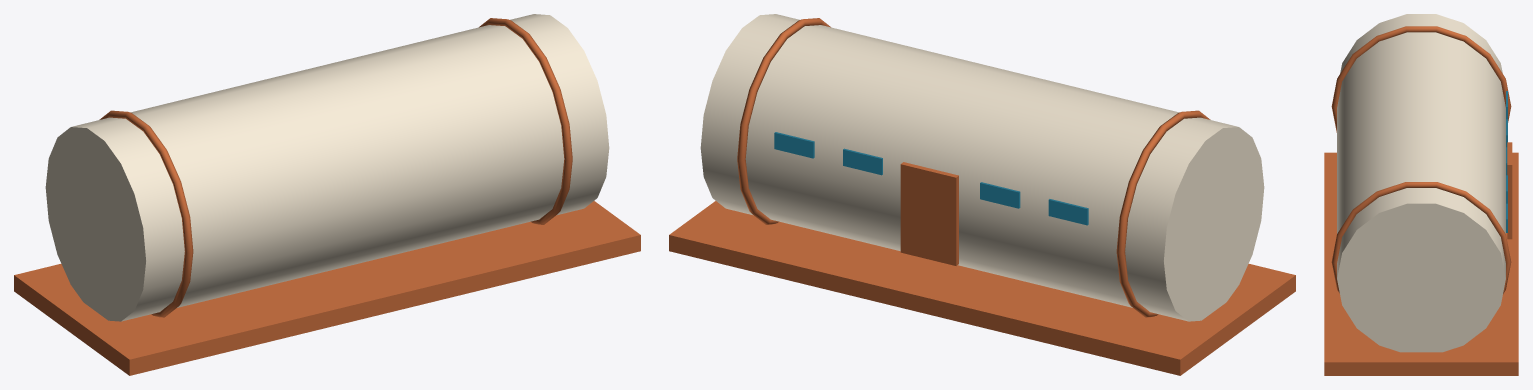
The model's file is habitat.glb.
3 views of the same model, side by side, from view 1: azimuth 30°, elevation 25°; view 2: azimuth 150°, elevation 25°; view 3: azimuth 270°, elevation 25° (orthographic). The views are drawn at different scales.
Parts seen in each view (by area): view 1: LOD0-hull, LOD0-trim; view 2: LOD0-hull, LOD0-trim, LOD0-glass; view 3: LOD0-hull, LOD0-trim, LOD0-glass.
Part boxes in pixels (x1,y1,x2,y2): LOD0-hull: (45,14,609,321); LOD0-trim: (14,18,640,375); LOD0-hull: (700,14,1264,321); LOD0-trim: (669,18,1295,375); LOD0-glass: (774,132,1088,225); LOD0-hull: (1337,14,1505,352); LOD0-trim: (1324,26,1518,375); LOD0-glass: (1506,91,1507,232).
Size of what is drawn, in the model's own units: 13.8 by 5.13 by 5.4.
